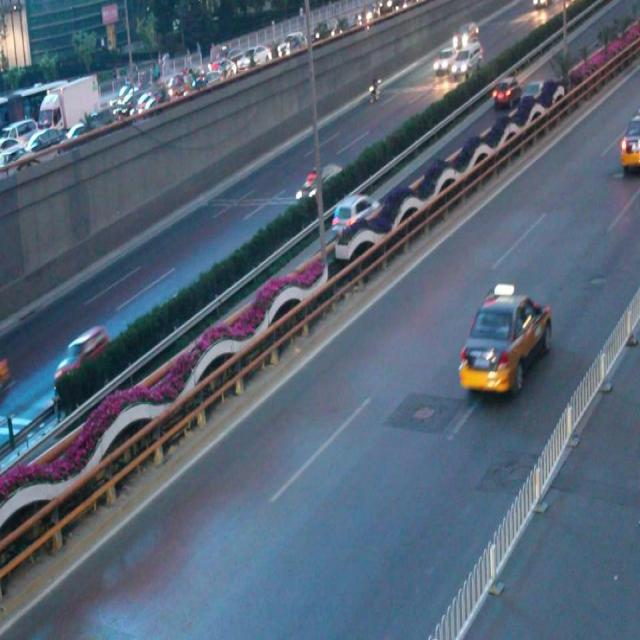car: (456, 284, 550, 395), (54, 328, 112, 389), (328, 189, 378, 235), (296, 160, 339, 204), (616, 115, 640, 167)
